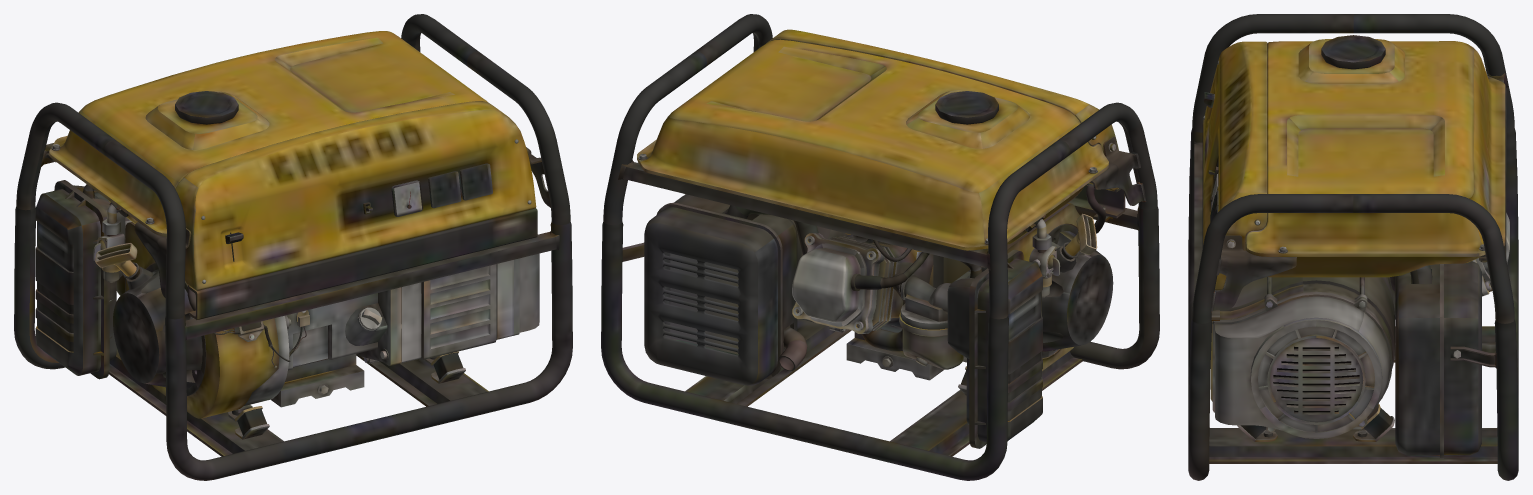
The model's file is portable_generator.gltf.
3 views of the same model, side by side, from view 1: azimuth 30°, elevation 25°; view 2: azimuth 150°, elevation 25°; view 3: azimuth 270°, elevation 25° (orthographic).
Visible parts, largest first — view 1: portable_generator; view 2: portable_generator; view 3: portable_generator.
Part boxes in pixels (x1,y1,x2,y2): portable_generator: (14, 14, 572, 480); portable_generator: (601, 14, 1159, 480); portable_generator: (1188, 14, 1518, 480).
Size of the model in its own units: 0.8183 by 0.5769 by 0.564.
Materials: 2 (2 with a texture image).
